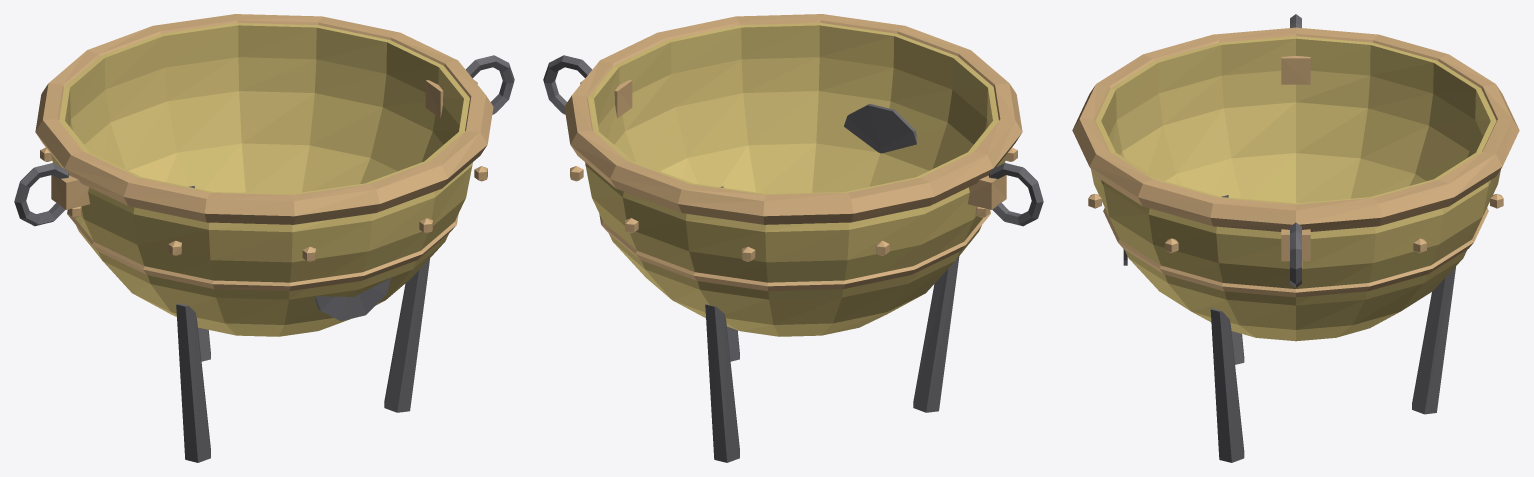
The model's file is cauldron_gold.glb.
3 renders of one model, left to right at view 1: azimuth 30°, elevation 25°; view 2: azimuth 150°, elevation 25°; view 3: azimuth 270°, elevation 25°, orthographic. The views are drawn at different scales.
Parts seen in each view (by area): view 1: cauldron_gold; view 2: cauldron_gold; view 3: cauldron_gold.
Boxes of the visible parts, x1=… form: cauldron_gold: x1=14, y1=14, x2=514, y2=462; cauldron_gold: x1=543, y1=14, x2=1043, y2=462; cauldron_gold: x1=1072, y1=14, x2=1519, y2=462.
Bounding box in the file's own units: 2.7 × 1.55 × 2.16.
